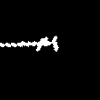double_crochet: (0, 36, 58, 50)
